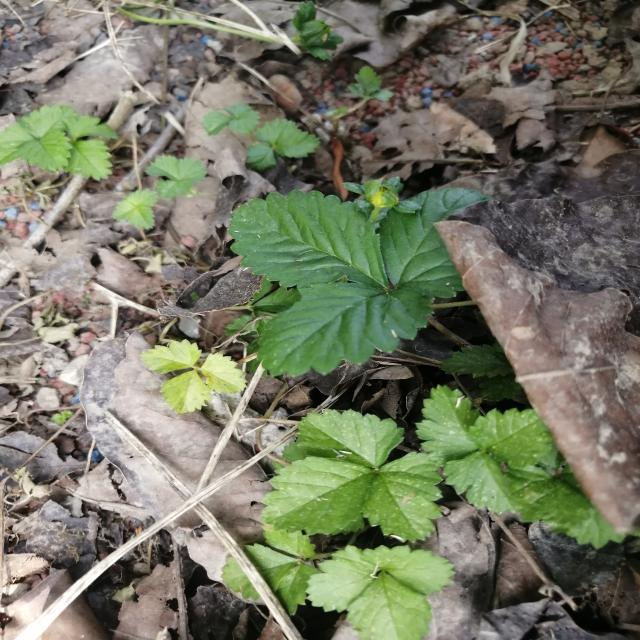Mock_strawberry: (264, 360, 595, 549), (200, 170, 480, 372)
